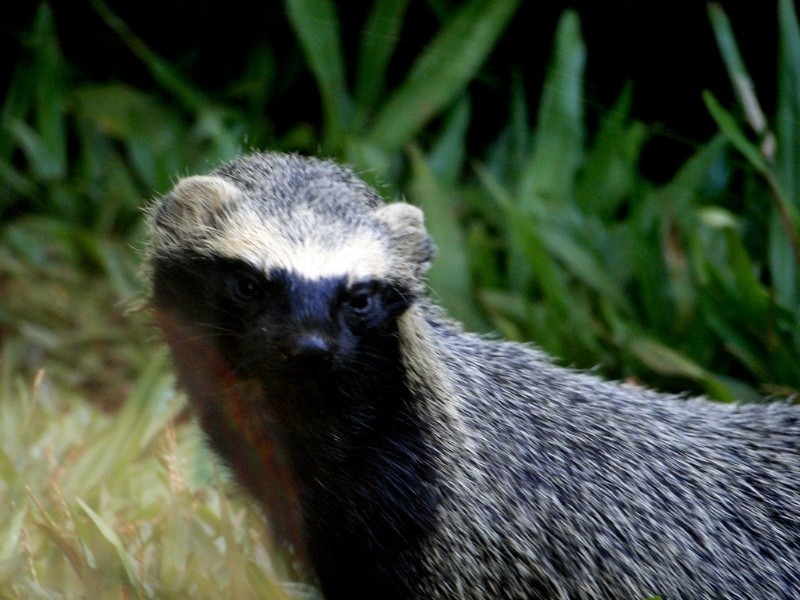minkish: (136, 158, 791, 594)
